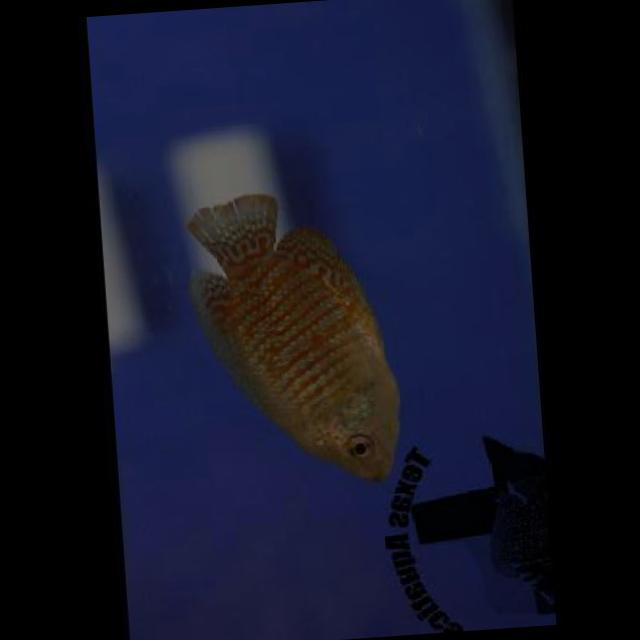Gourami: (175, 182, 399, 490)
